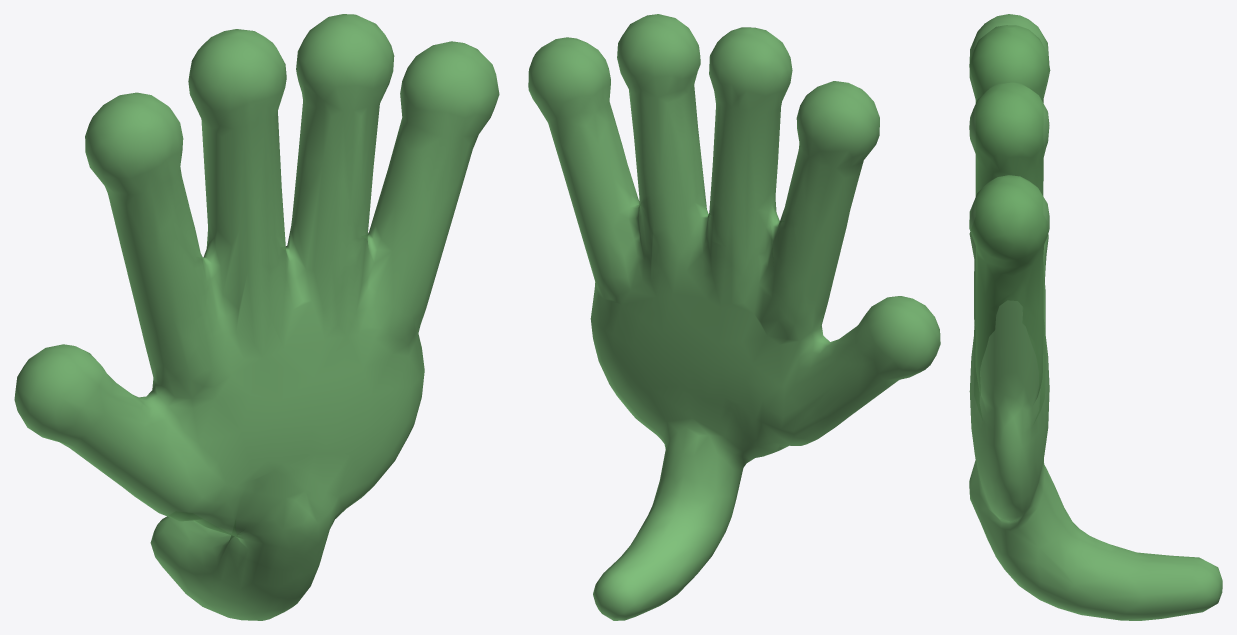
Rendered from grap_sticky.glb.
The picture shows the model from 3 angles, left to right: view 1: azimuth 30°, elevation 25°; view 2: azimuth 150°, elevation 25°; view 3: azimuth 270°, elevation 25°; orthographic projection. The views are drawn at different scales.
Visible parts, largest first — view 1: sticky_hand__g74b86fcc; view 2: sticky_hand__g74b86fcc; view 3: sticky_hand__g74b86fcc.
Part boxes in pixels (x1,y1,x2,y2): sticky_hand__g74b86fcc: (14,14,499,620); sticky_hand__g74b86fcc: (528,14,940,620); sticky_hand__g74b86fcc: (969,14,1222,620).
Bounding box in the file's own units: 0.9138 × 1.17 × 0.4741.
